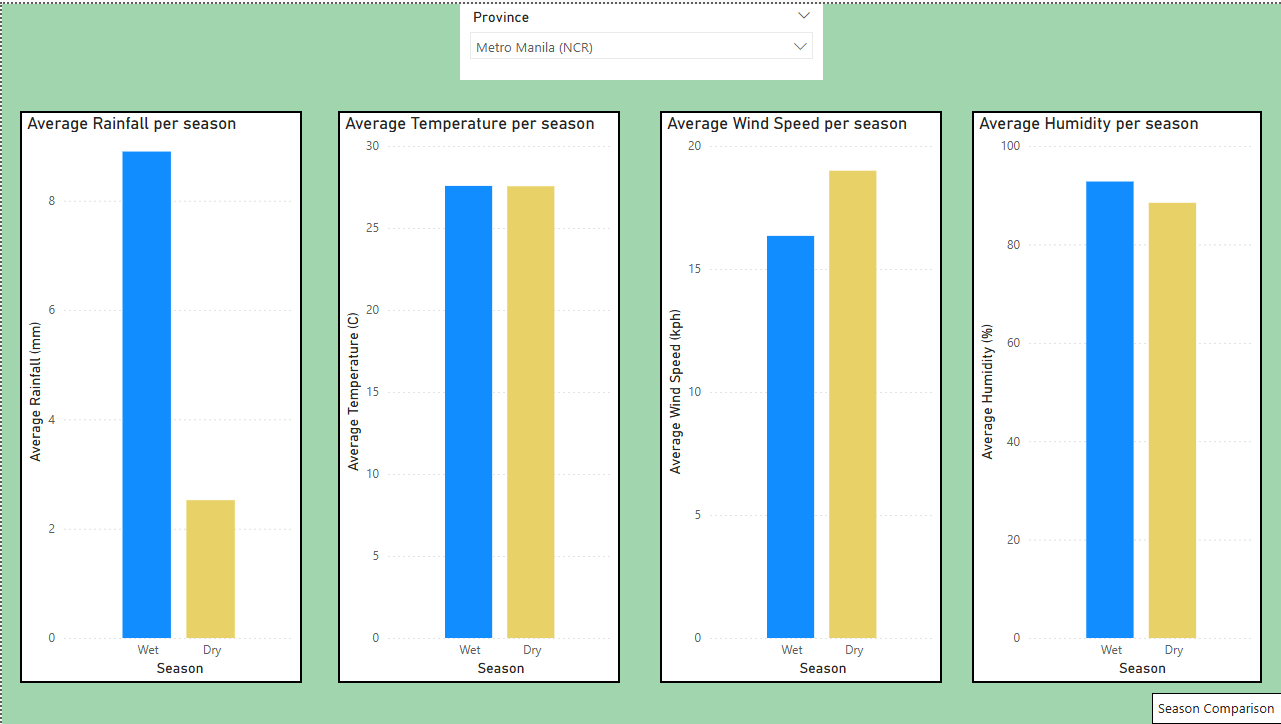

The page's visual inventory and layout, read from the dashboard file:
{"tool":"powerbi","page":{"name":"Season Comparison","canvas":[1280,720],"ordinal":5},"visuals":[{"type":"clusteredColumnChart","title":"Average Rainfall per season","fields":{"Category":["mart_season_summary.season"],"Y":["Avg(mart_season_summary.avg_rain)"]},"box":[18,107,282,572],"z":0},{"type":"slicer","fields":{"Values":["mart_season_summary.province"]},"box":[458,0,363,76],"z":1000},{"type":"clusteredColumnChart","title":"Average Wind Speed per season","fields":{"Category":["mart_season_summary.season"],"Y":["Avg(mart_season_summary.avg_wind_speed)"]},"box":[658,107,282,572],"z":2000},{"type":"clusteredColumnChart","title":"Average Humidity per season","fields":{"Category":["mart_season_summary.season"],"Y":["Avg(mart_season_summary.avg_humidity)"]},"box":[970,107,290,572],"z":3000},{"type":"clusteredColumnChart","title":"Average Temperature per season","fields":{"Category":["mart_season_summary.season"],"Y":["Avg(mart_season_summary.avg_temp)"]},"box":[336,107,282,572],"z":4000},{"type":"textbox","box":[1150,689,130,31],"z":4001}]}

Visuals, with their boxes in screenshot pixels (x1, y1, x2, y2), scaled from the page's 1280x720 canvas onto the 1281x724 screenshot:
"Average Rainfall per season" clusteredColumnChart: crop(18, 108, 300, 683)
slicer - mart_season_summary.province: crop(458, 0, 822, 76)
"Average Wind Speed per season" clusteredColumnChart: crop(659, 108, 941, 683)
"Average Humidity per season" clusteredColumnChart: crop(971, 108, 1261, 683)
"Average Temperature per season" clusteredColumnChart: crop(336, 108, 618, 683)
textbox: crop(1151, 693, 1280, 723)
